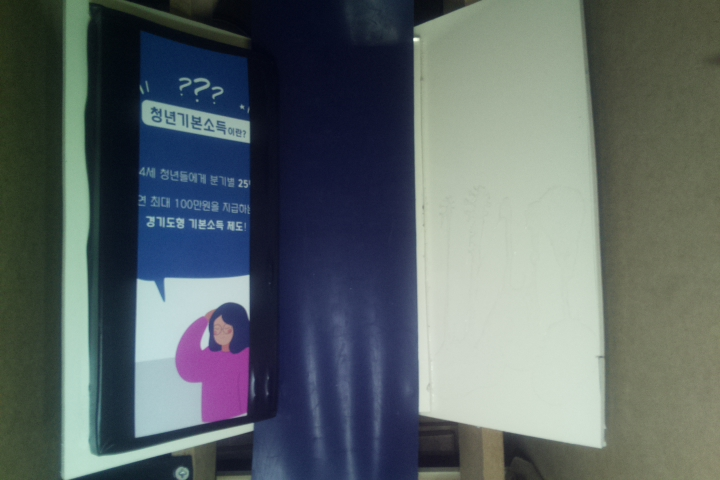book: (87, 3, 281, 458)
